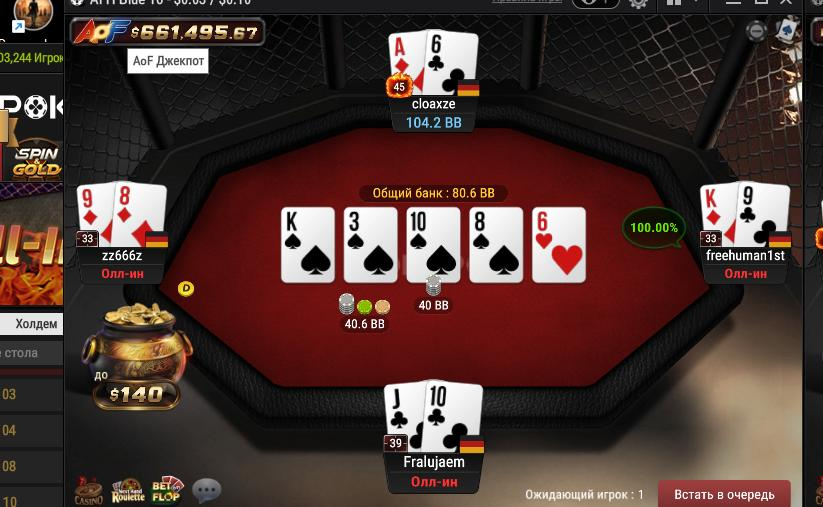10c: (425, 380, 483, 455)
10s: (408, 207, 460, 282)
3s: (343, 208, 397, 283)
6c: (426, 29, 477, 95)
6h: (532, 208, 586, 282)
8d: (114, 180, 164, 247)
8s: (470, 208, 522, 282)
9c: (736, 180, 788, 247)
9d: (76, 182, 114, 247)
Ad: (388, 32, 426, 94)
Jc: (383, 384, 425, 452)
Kd: (699, 183, 736, 247)
Ks: (281, 208, 334, 282)
